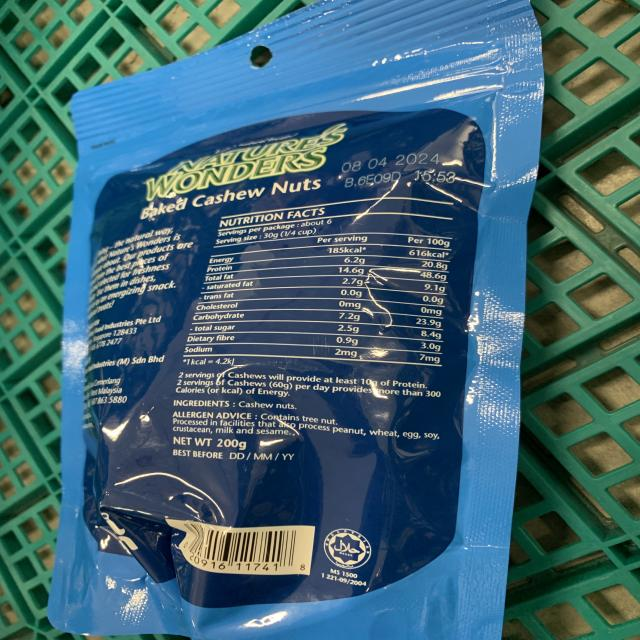object_name: (83, 56, 502, 634)
